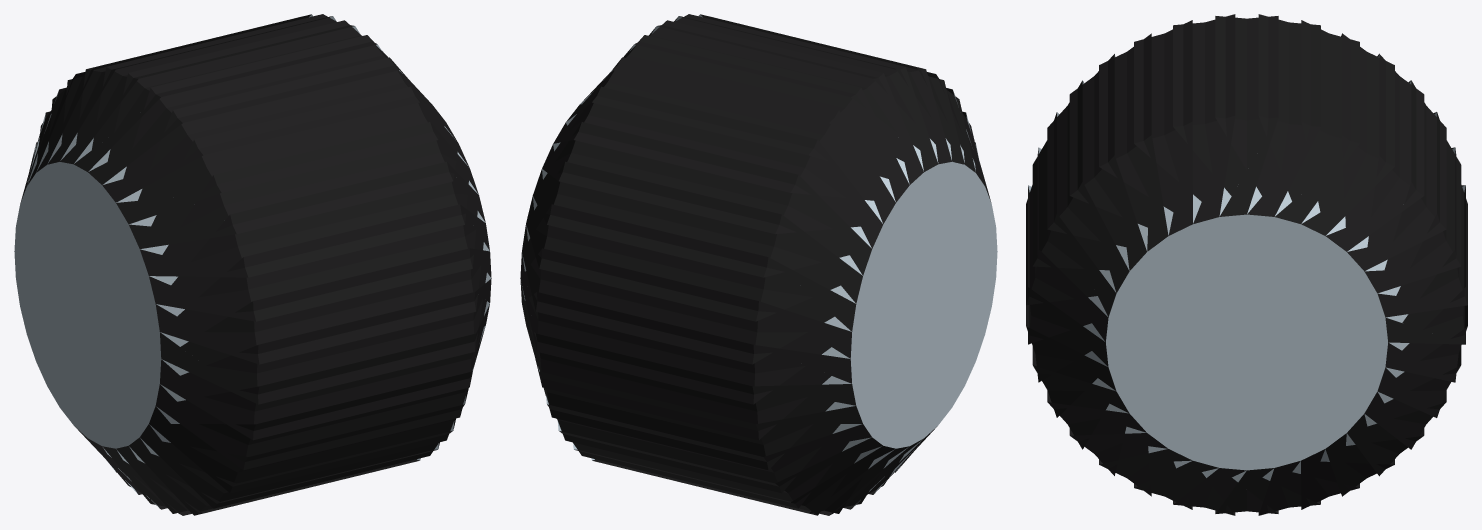
File: Aerion_Nebula_Cab_Wheel.obj
3 renders of one model, left to right at view 1: azimuth 30°, elevation 25°; view 2: azimuth 150°, elevation 25°; view 3: azimuth 270°, elevation 25°, orthographic. The views are drawn at different scales.
Parts seen in each view (by area): view 1: Cylinder; view 2: Cylinder; view 3: Cylinder.
Part boxes in pixels (bbox=[...]): Cylinder: bbox=[14, 14, 491, 515]; Cylinder: bbox=[520, 14, 997, 515]; Cylinder: bbox=[1026, 14, 1467, 515].
Size of the model in its own units: 0.1995 by 0.2403 by 0.2403.
